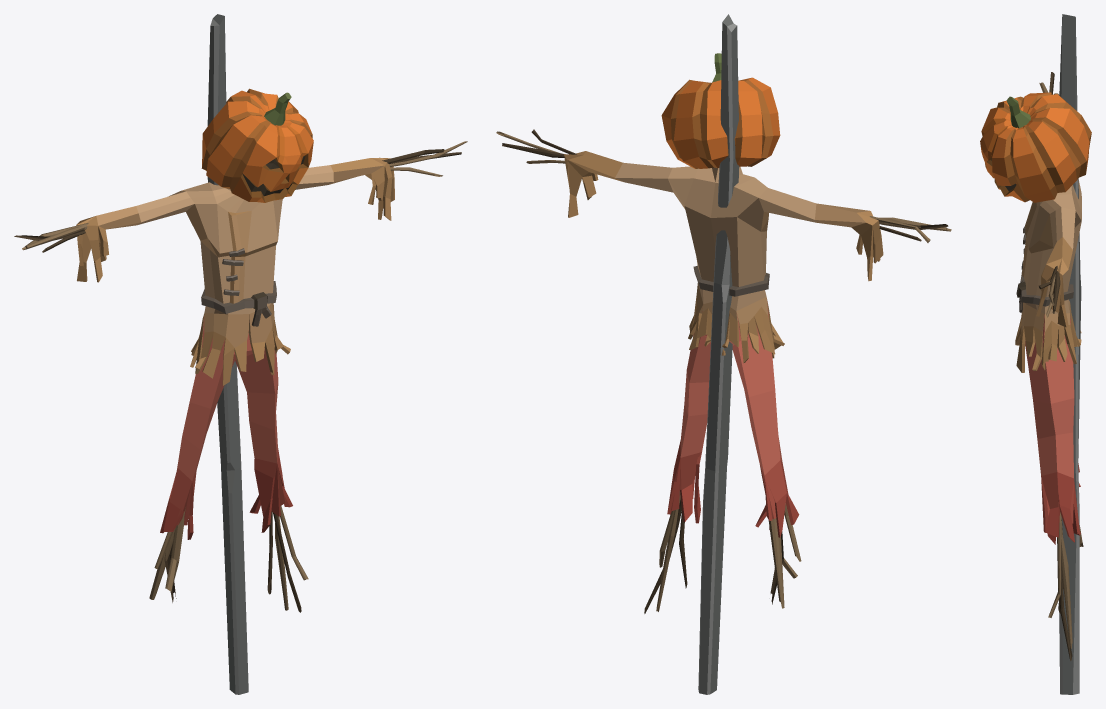
The model's file is WF_LP_HT_Props_Scarecrow.004.fbx.
3 views of the same model, side by side, from view 1: azimuth 30°, elevation 25°; view 2: azimuth 150°, elevation 25°; view 3: azimuth 270°, elevation 25° (orthographic).
Parts seen in each view (by area): view 1: WF_LP_HT_Props_Scarecrow.004; view 2: WF_LP_HT_Props_Scarecrow.004; view 3: WF_LP_HT_Props_Scarecrow.004.
Part boxes in pixels (bbox=[...]): WF_LP_HT_Props_Scarecrow.004: bbox=[14, 14, 467, 694]; WF_LP_HT_Props_Scarecrow.004: bbox=[496, 14, 951, 694]; WF_LP_HT_Props_Scarecrow.004: bbox=[980, 14, 1091, 694].
Size of the model in its own units: 1.73 by 2.49 by 0.3759.
